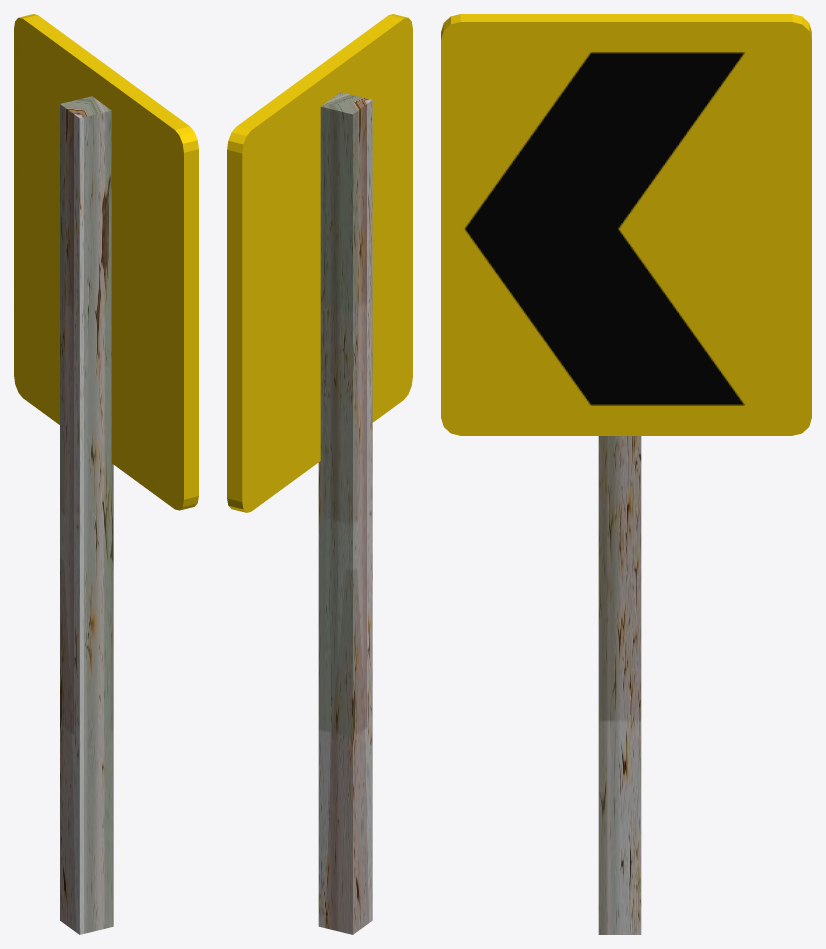
Rendered from sign_arrow L.fbx.
The picture shows the model from 3 angles, left to right: view 1: azimuth 30°, elevation 25°; view 2: azimuth 150°, elevation 25°; view 3: azimuth 270°, elevation 25°; orthographic projection. The views are drawn at different scales.
Visible parts, largest first — view 1: Cube.004; view 2: Cube.004; view 3: Cube.004.
Part boxes in pixels (x1=…): Cube.004: x1=14, y1=14, x2=198, y2=934; Cube.004: x1=227, y1=14, x2=412, y2=934; Cube.004: x1=441, y1=14, x2=811, y2=934.
Size of the model in its own units: 18.57 by 317 by 116.
Materials: 2 (2 with a texture image).
